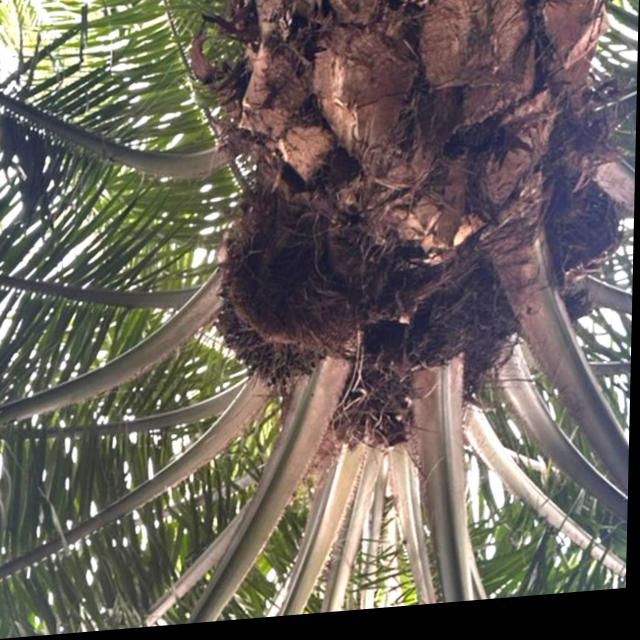unripe: (203, 218, 346, 415)
